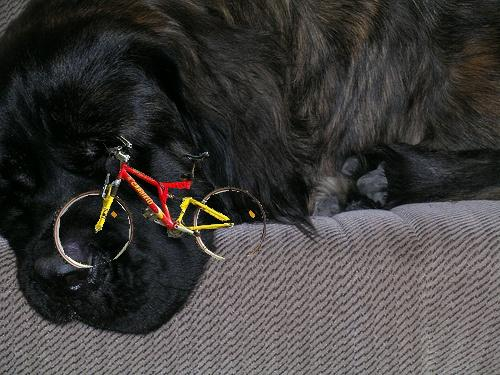tampered: (54, 135, 266, 268)
